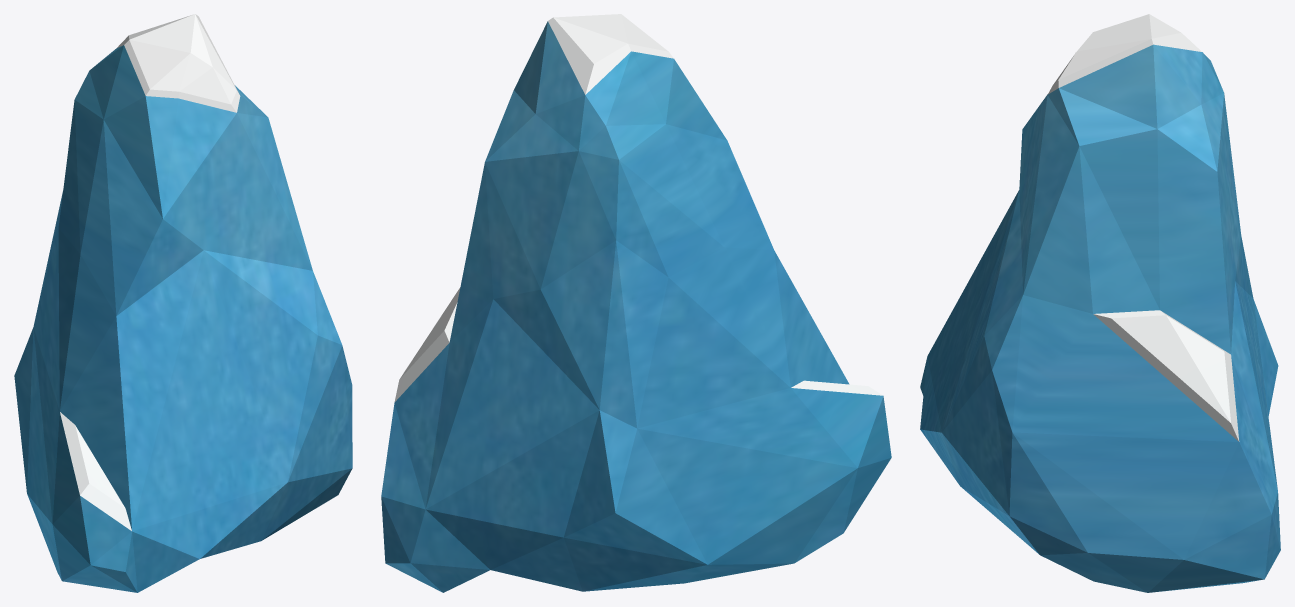
Rendered from HX-Bingshitou3.FBX.
3 renders of one model, left to right at view 1: azimuth 30°, elevation 25°; view 2: azimuth 150°, elevation 25°; view 3: azimuth 270°, elevation 25°, orthographic. The views are drawn at different scales.
Visible parts, largest first — view 1: shitou005, xue006; view 2: shitou005, xue006; view 3: shitou005, xue006.
Part boxes in pixels (bbox=[...]): shitou005: bbox=[14, 45, 352, 592]; xue006: bbox=[60, 14, 240, 530]; shitou005: bbox=[381, 21, 891, 592]; xue006: bbox=[394, 14, 882, 401]; shitou005: bbox=[920, 44, 1280, 592]; xue006: bbox=[1048, 14, 1239, 441].
Bounding box in the file's own units: 486 × 714 × 452.
